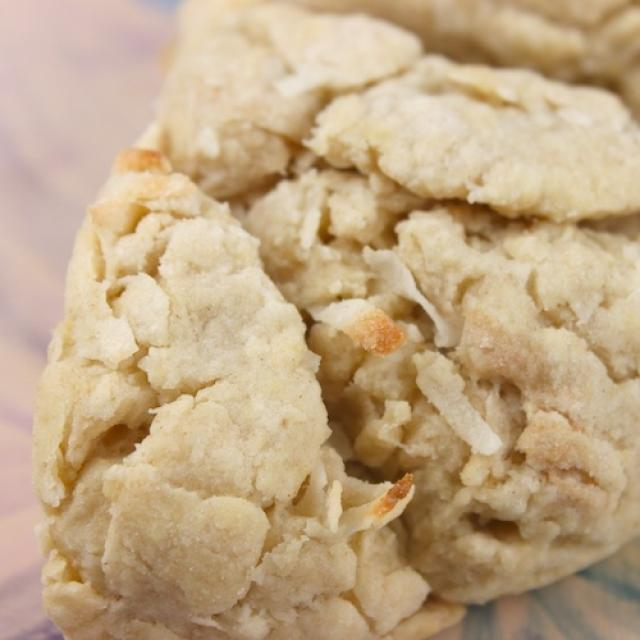面包点心: (43, 13, 635, 631)
